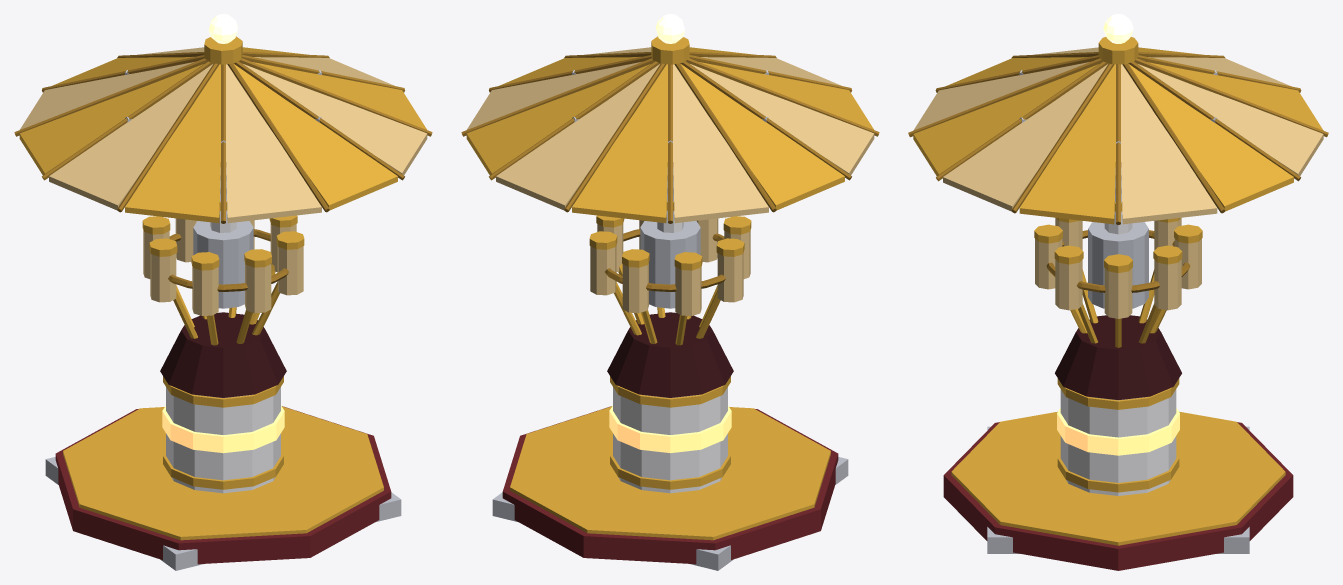
Rendered from kilopower.glb.
The picture shows the model from 3 angles, left to right: view 1: azimuth 30°, elevation 25°; view 2: azimuth 150°, elevation 25°; view 3: azimuth 270°, elevation 25°; orthographic projection.
Parts seen in each view (by area): view 1: kilopower; view 2: kilopower; view 3: kilopower.
Boxes of the visible parts, <box> form: kilopower: <box>14,14,432,570</box>; kilopower: <box>461,14,879,570</box>; kilopower: <box>908,14,1328,570</box>.
Bounding box in the file's own units: 2.77 × 3.51 × 2.77.
